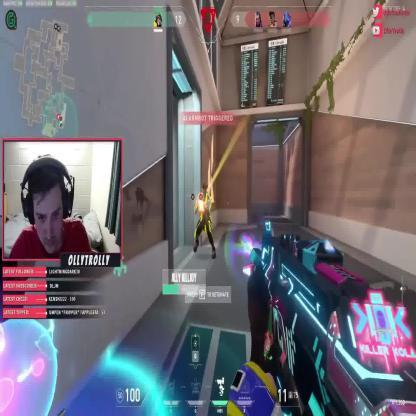enemy: (194, 184, 216, 259)
enemy_head: (200, 184, 208, 199)
